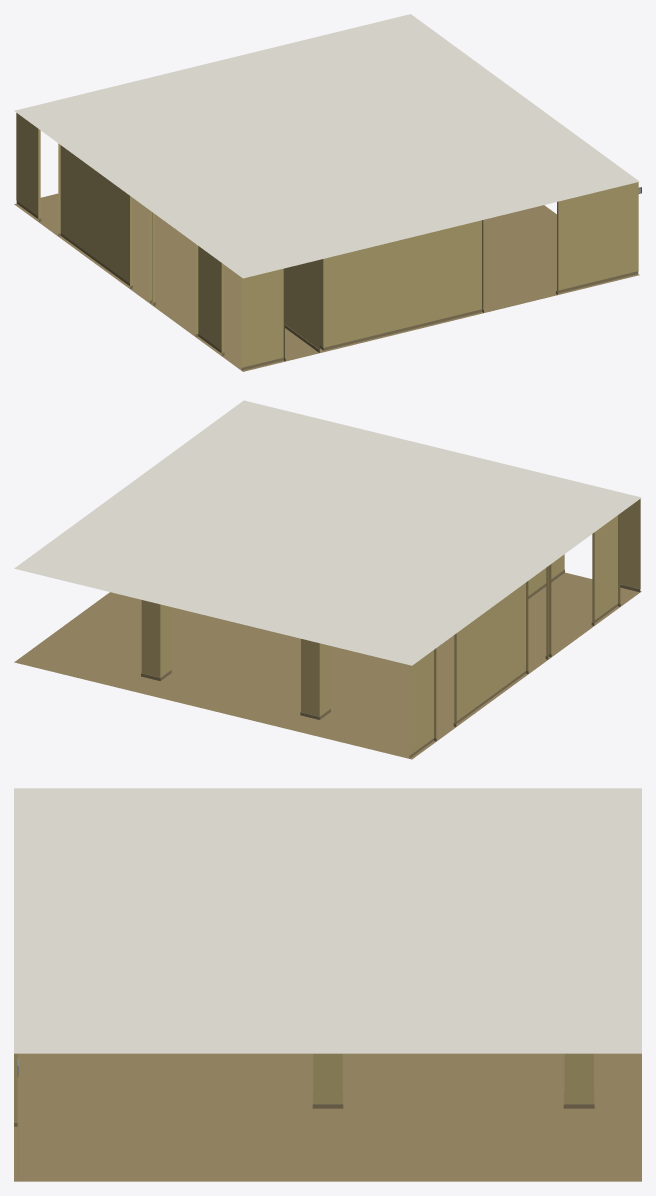
Rendered from chunk_4_1.glb.
3 views of the same model, one above another, from view 1: azimuth 30°, elevation 25°; view 2: azimuth 150°, elevation 25°; view 3: azimuth 270°, elevation 25° (orthographic). The views are drawn at different scales.
Visible parts, largest first — view 1: chunk_4_1; view 2: chunk_4_1; view 3: chunk_4_1.
Part boxes in pixels (x1,y1,x2,y2): chunk_4_1: [14, 14, 641, 371]; chunk_4_1: [14, 400, 641, 759]; chunk_4_1: [14, 788, 641, 1181].
Bounding box in the file's own units: 12.12 × 2.7 × 12.
